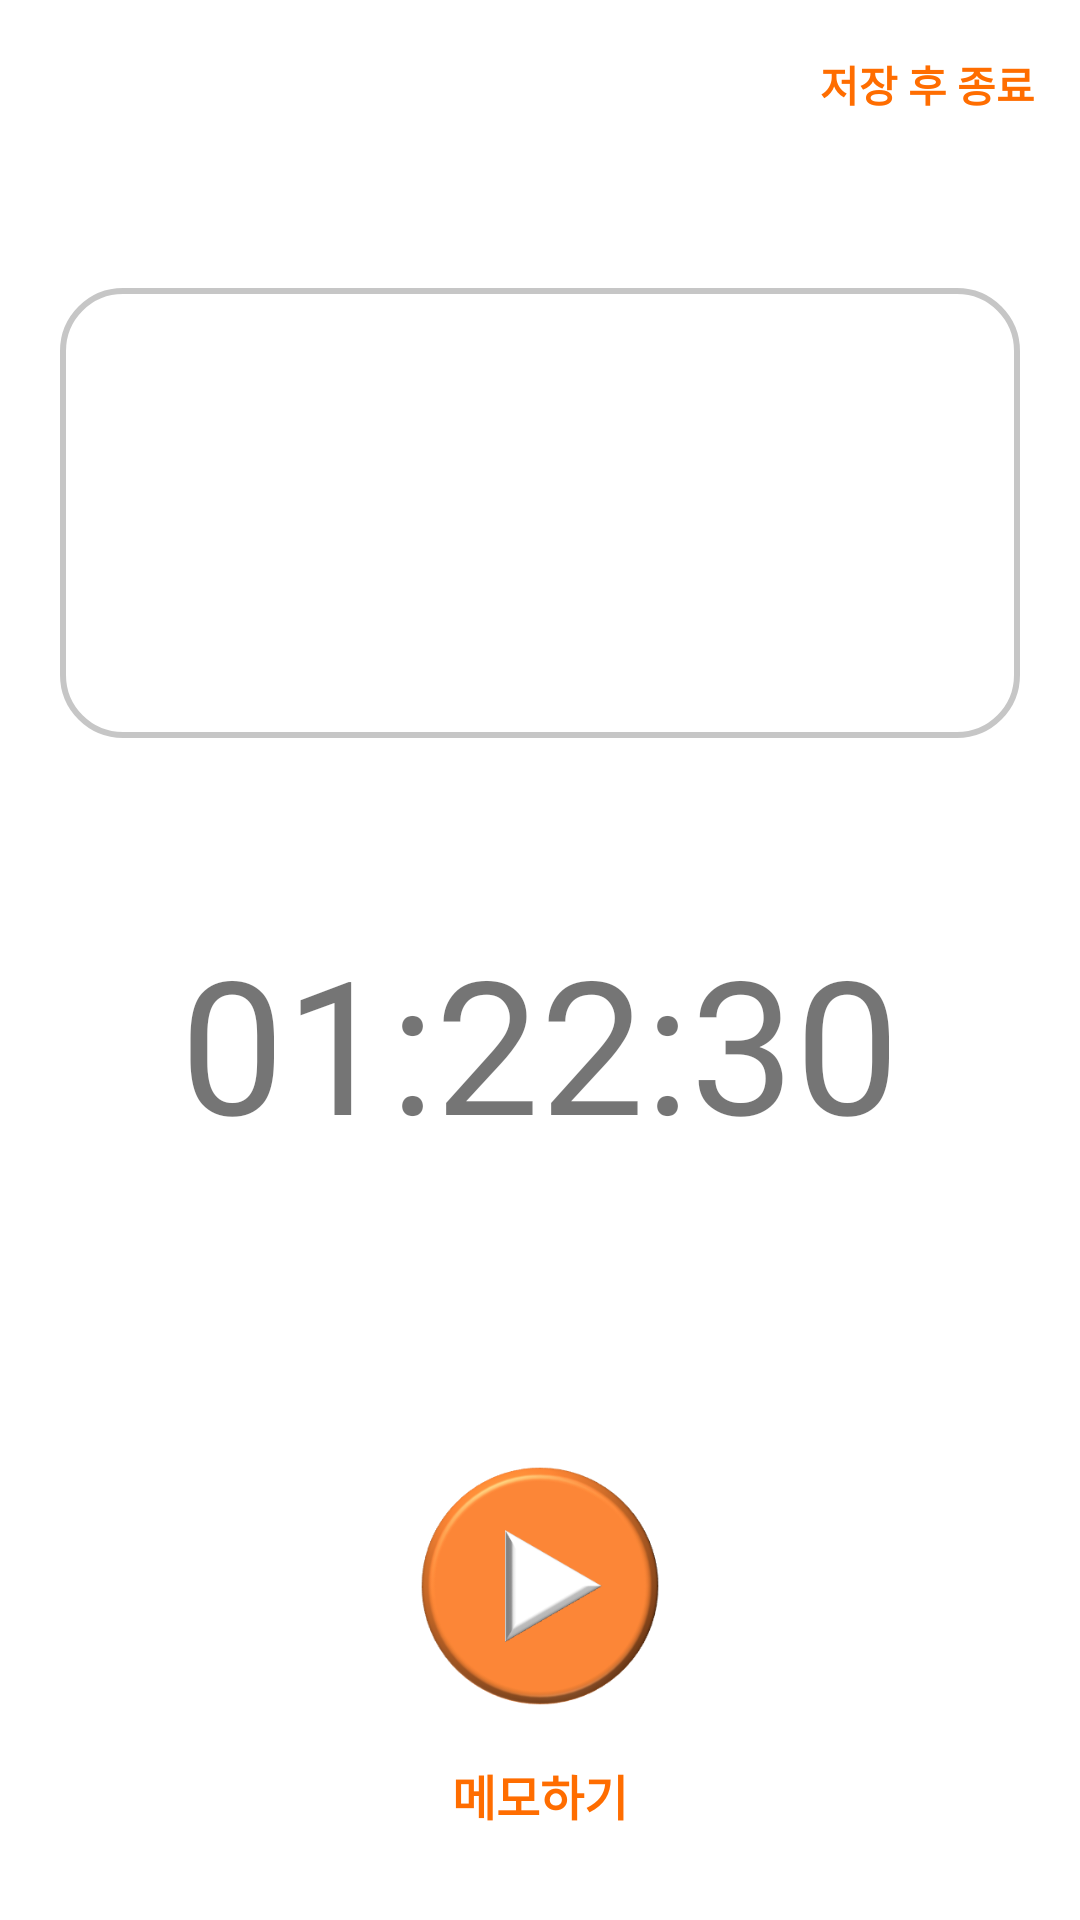

Named icons in this screenshot (1080px×1920px) and their bounding boxes, BBox(x1, y1, x2, y2):
play: BBox(421, 1467, 659, 1705)
